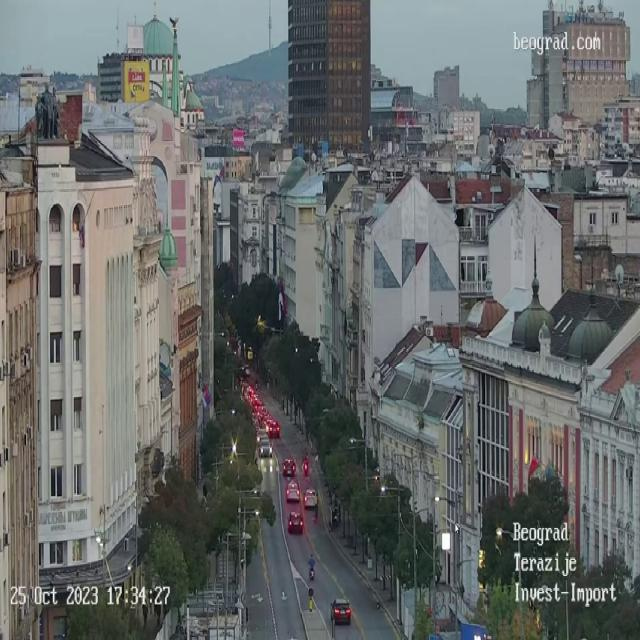car: (331, 598, 352, 625), (287, 507, 304, 531), (259, 437, 274, 460), (288, 482, 301, 505), (304, 488, 317, 510), (284, 454, 295, 477), (268, 418, 280, 437)
